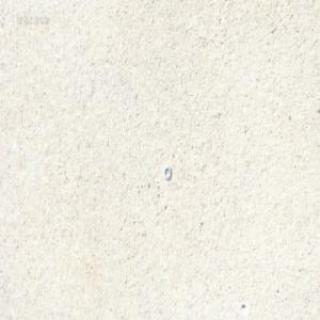Washertrack_idkeyframe: (162, 166, 170, 182)
